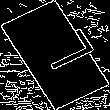L_SW: (20, 30, 90, 80)
